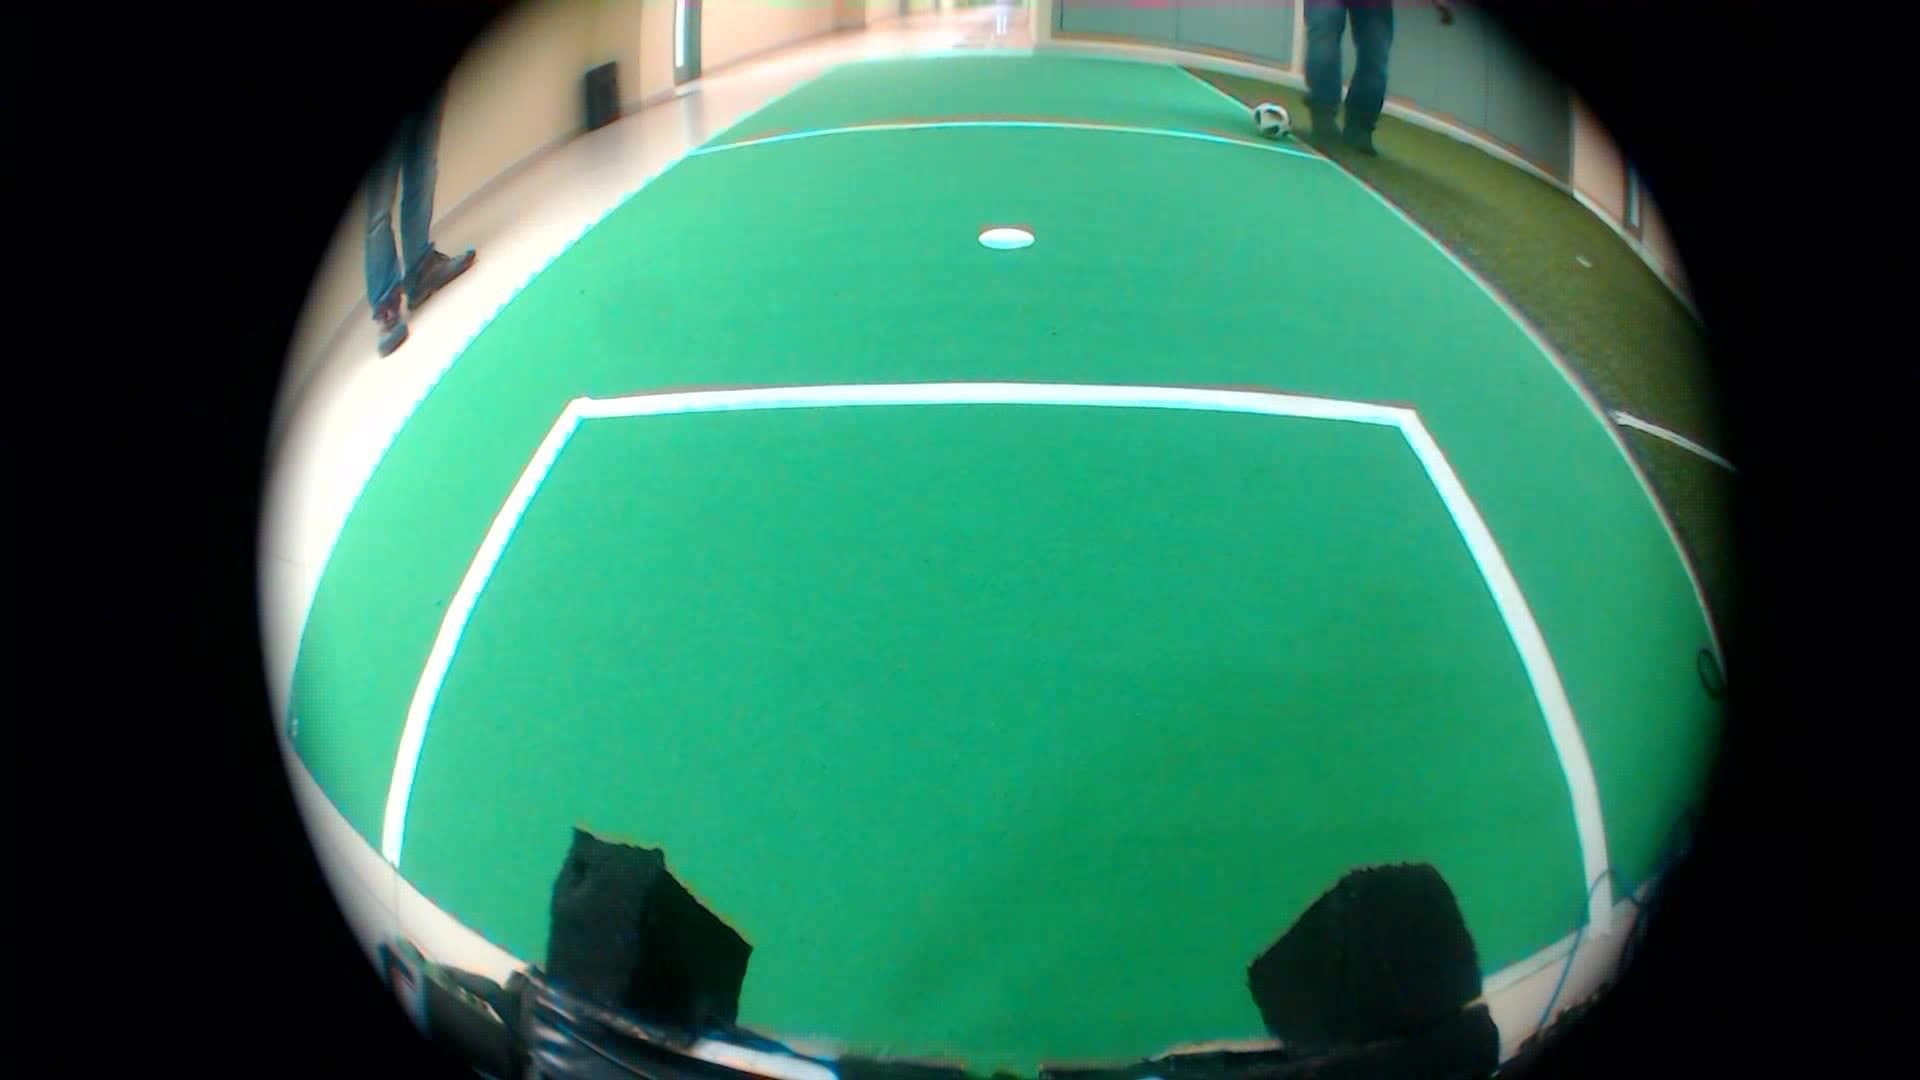ball: (1247, 92, 1288, 152)
